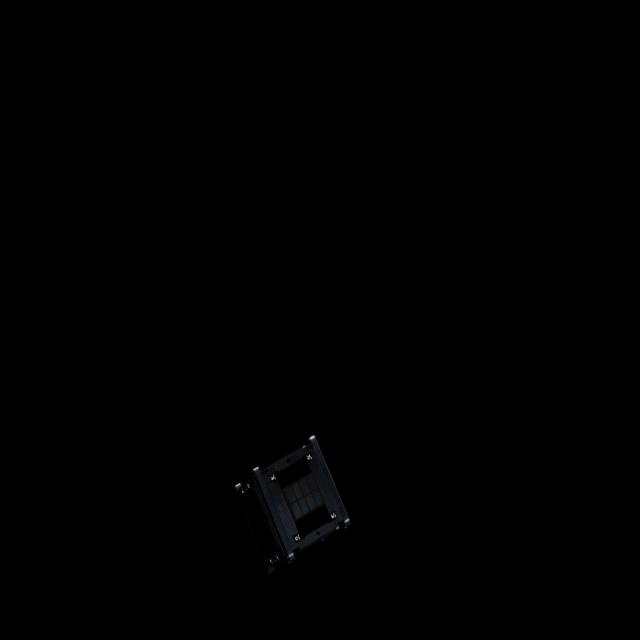medium_debris: (224, 427, 351, 573)
